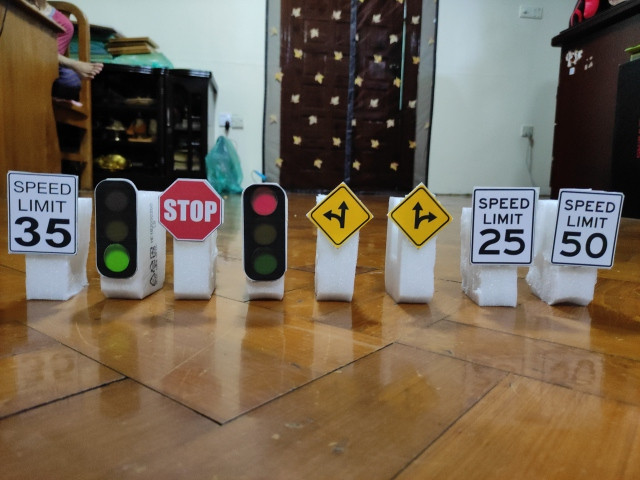Green Traffic Light: (94, 178, 139, 279)
Red Traffic Light: (241, 183, 287, 281)
Speed Limit 25: (470, 188, 537, 265)
Speed Limit 35: (6, 171, 79, 257)
Speed Limit 50: (549, 190, 625, 268)
Stop Sign: (159, 177, 224, 242)
Straight Or Left Sign: (308, 185, 372, 248)
Straight Or Right Sign: (387, 184, 453, 249)
